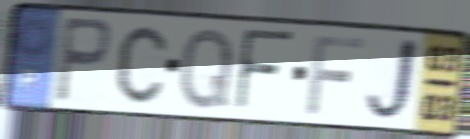C: (115, 23, 169, 106)
F: (232, 26, 297, 116), (304, 32, 367, 118)
J: (362, 34, 421, 126)
P: (52, 14, 114, 107)
Q: (176, 24, 236, 113)
